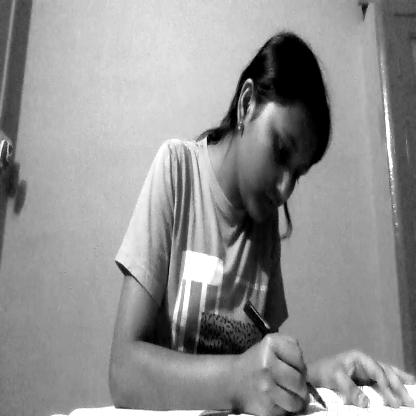Distracted: (238, 70, 317, 233)
